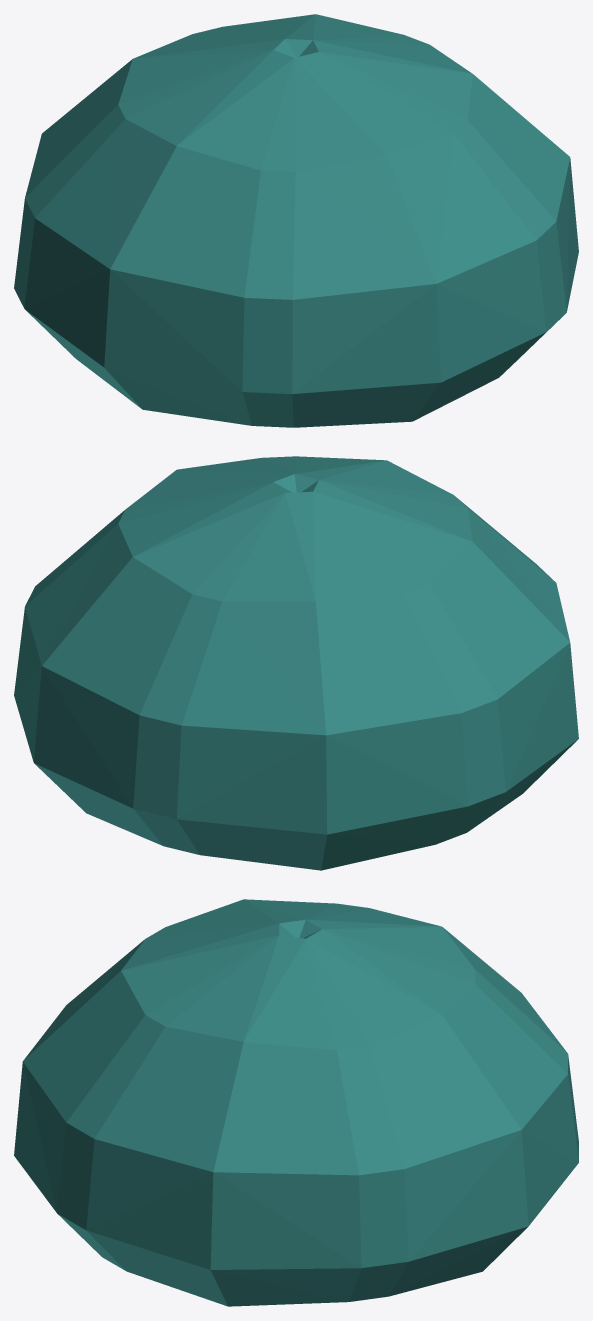
Rendered from SM_Sea_Urchin_Dead_B.fbx.
3 renders of one model, top to bottom at view 1: azimuth 30°, elevation 25°; view 2: azimuth 150°, elevation 25°; view 3: azimuth 270°, elevation 25°, orthographic.
Parts seen in each view (by area): view 1: sea-urchin-dead-b; view 2: sea-urchin-dead-b; view 3: sea-urchin-dead-b.
Part boxes in pixels (x1,y1,x2,y2): sea-urchin-dead-b: (14, 14, 578, 427); sea-urchin-dead-b: (14, 456, 578, 870); sea-urchin-dead-b: (14, 899, 578, 1306).
Size of the model in its own units: 0.1068 by 0.0676 by 0.11.
